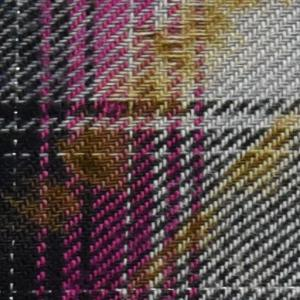Oil Stain: (6, 1, 294, 300)
